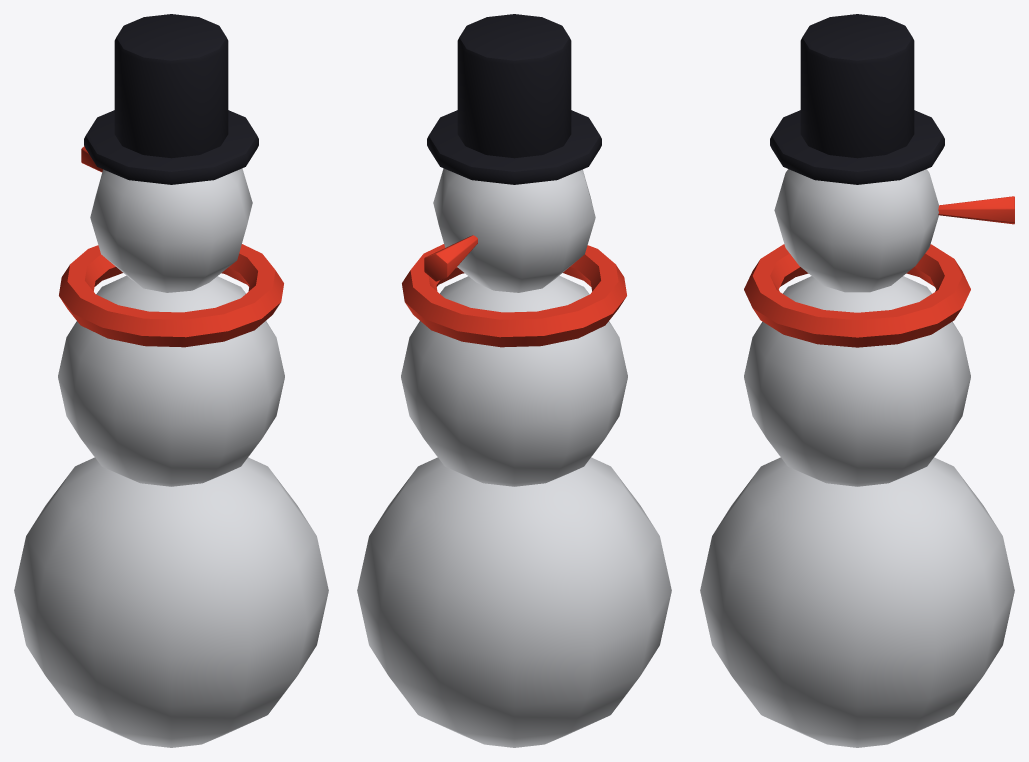
File: DecoSnowman.fbx
The picture shows the model from 3 angles, left to right: view 1: azimuth 30°, elevation 25°; view 2: azimuth 150°, elevation 25°; view 3: azimuth 270°, elevation 25°; orthographic projection.
Parts seen in each view (by area): view 1: DecoSnowman; view 2: DecoSnowman; view 3: DecoSnowman.
Part boxes in pixels (bbox=[...]): DecoSnowman: bbox=[14, 14, 328, 747]; DecoSnowman: bbox=[357, 14, 671, 747]; DecoSnowman: bbox=[700, 14, 1014, 747].
Bounding box in the file's own units: 180 × 440 × 180.
